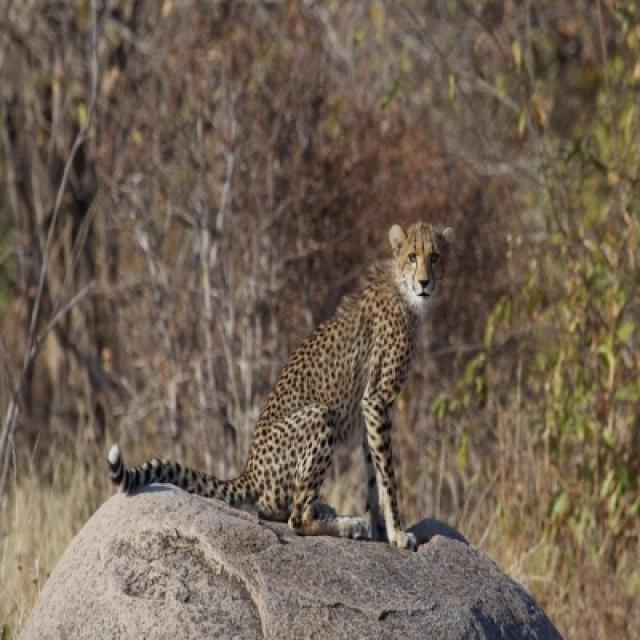Cheetah: (210, 235, 416, 541)
